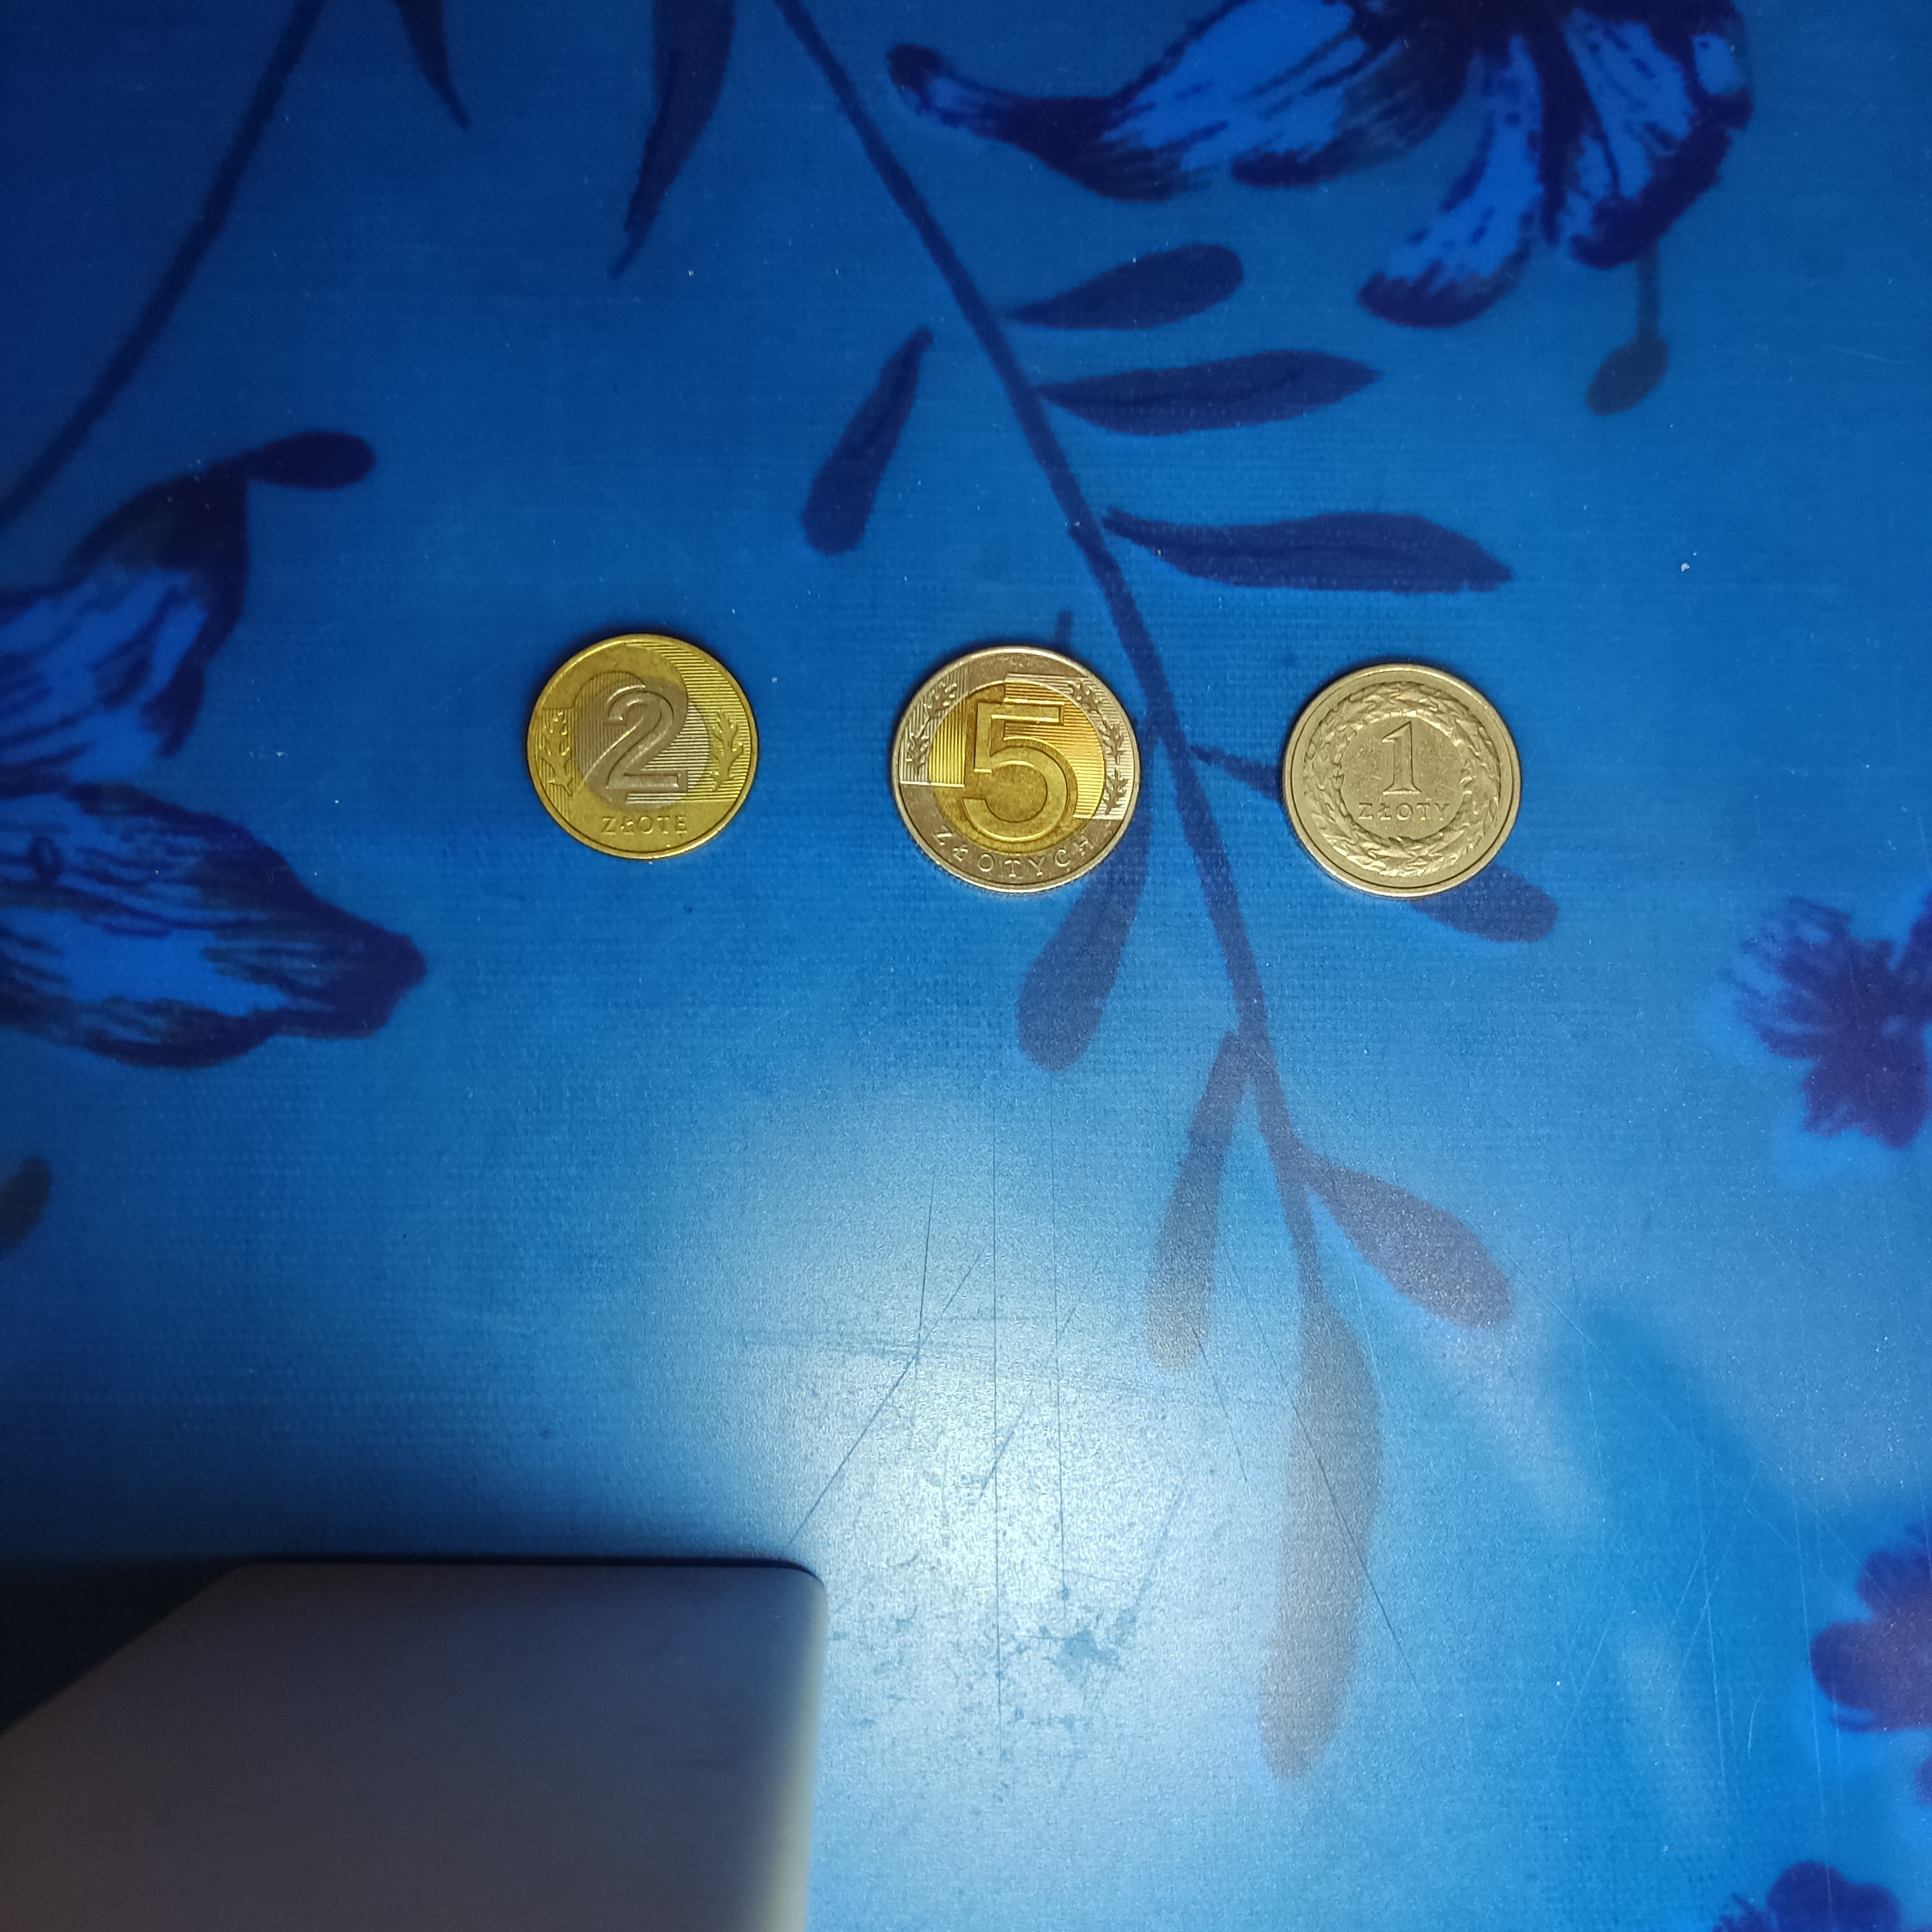1zl: (1281, 658, 1518, 895)
2zl: (527, 630, 754, 856)
5zl: (890, 646, 1134, 893)
